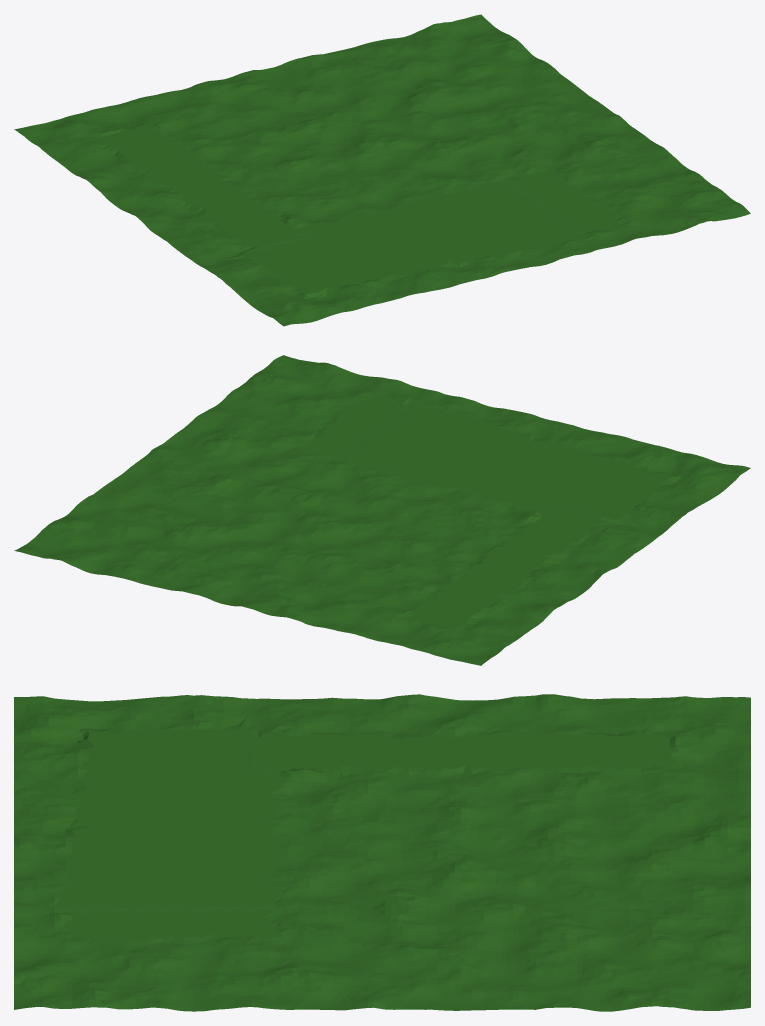
Rendered from talaj egyenes.fbx.
3 renders of one model, top to bottom at view 1: azimuth 30°, elevation 25°; view 2: azimuth 150°, elevation 25°; view 3: azimuth 270°, elevation 25°, orthographic. The views are drawn at different scales.
Visible parts, largest first — view 1: Landscape.001; view 2: Landscape.001; view 3: Landscape.001.
Part boxes in pixels (x1=…): Landscape.001: x1=14, y1=14, x2=750, y2=326; Landscape.001: x1=14, y1=355, x2=750, y2=665; Landscape.001: x1=14, y1=694, x2=750, y2=1011.
Bounding box in the file's own units: 10 × 0.1434 × 10.
